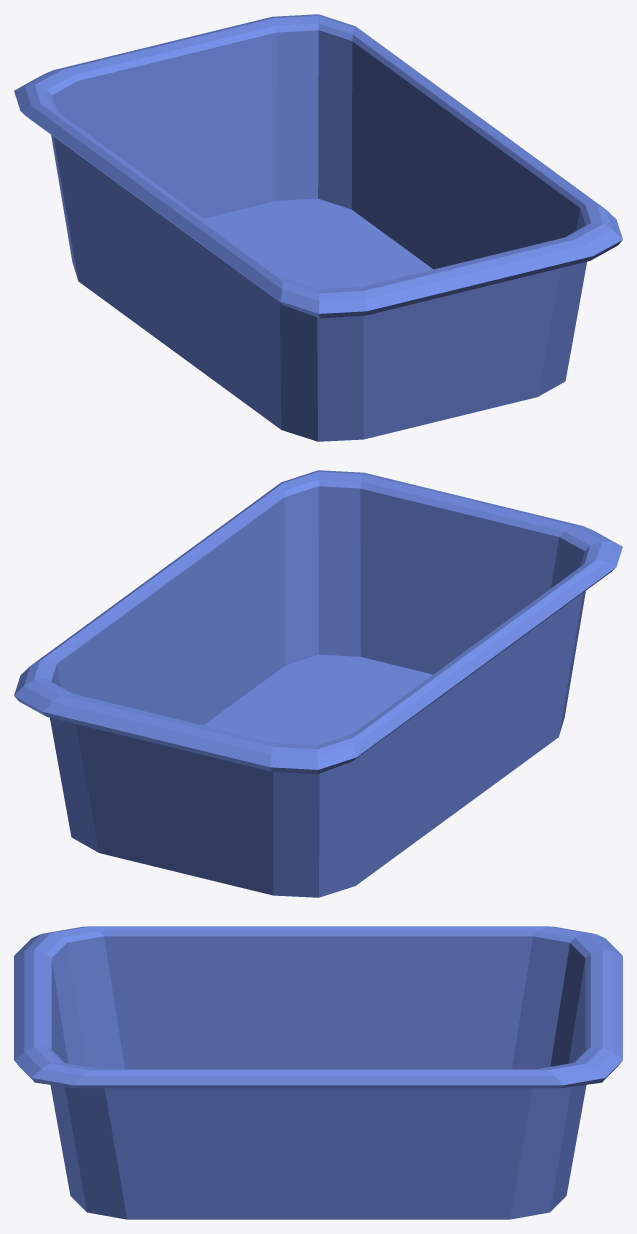
File: ClothBasket.fbx
The picture shows the model from 3 angles, top to bottom: view 1: azimuth 30°, elevation 25°; view 2: azimuth 150°, elevation 25°; view 3: azimuth 270°, elevation 25°; orthographic projection. The views are drawn at different scales.
Parts seen in each view (by area): view 1: ClothBasket; view 2: ClothBasket; view 3: ClothBasket.
Boxes of the visible parts, box(x1,y1,x2,y2) form: ClothBasket: box(14, 14, 622, 441); ClothBasket: box(14, 470, 622, 897); ClothBasket: box(14, 926, 622, 1219).
Size of the model in its own units: 45.18 by 21.49 by 75.3.
Materials: 1 (1 with a texture image).
